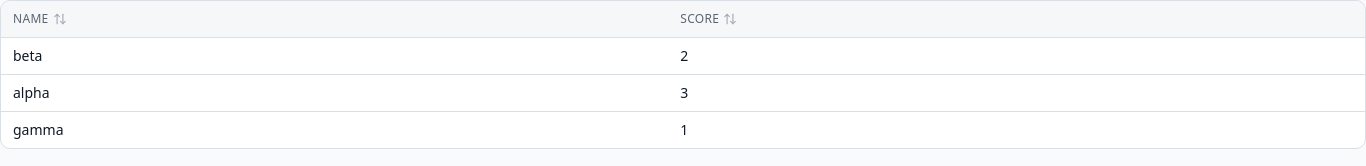
Test: SortableTH + useClientSort › sorts on click: name A→Z first, score highest first, then flips
Click the button "Name" at point(40, 19), box [9,9,70,29]
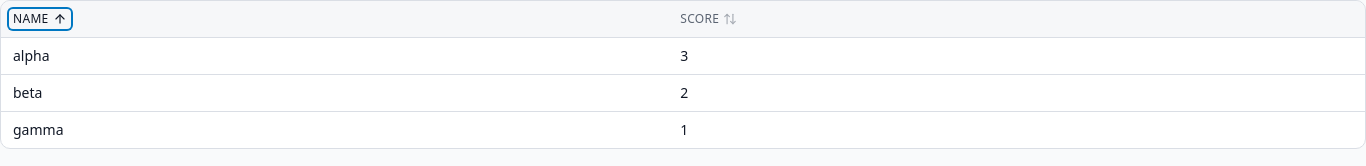
Expected: the column heading "Name" has attribute aria-sort="ascending", [1,1,668,37]
Click the button "Name" at point(40, 19), box [9,9,70,29]
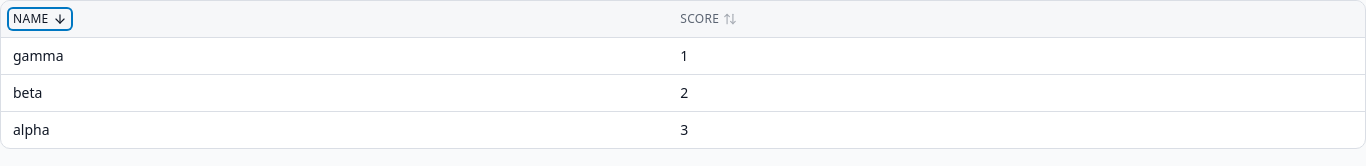
Expected: the column heading "Name" has attribute aria-sort="descending", [1,1,668,37]
Click the button "Score" at point(709, 19), box [676,9,741,29]
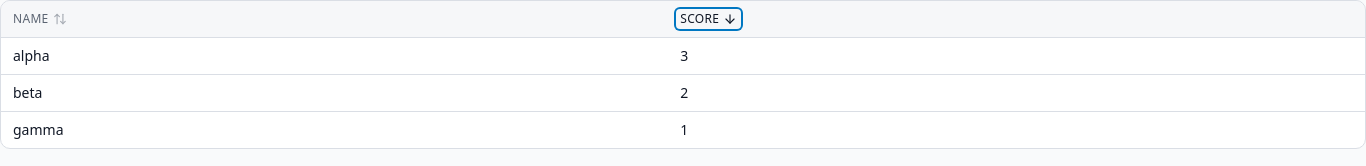
Expected: the column heading "Score" has attribute aria-sort="descending", [668,1,1365,37]
Expected: the column heading "Name" does not have attribute aria-sort, [1,1,668,37]
